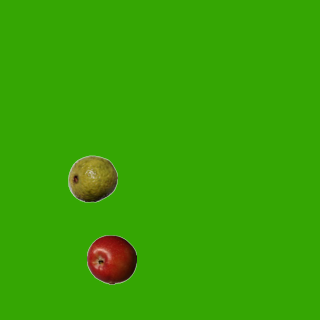Apple Braeburn: (86, 234, 136, 284)
Guava: (67, 153, 117, 203)
